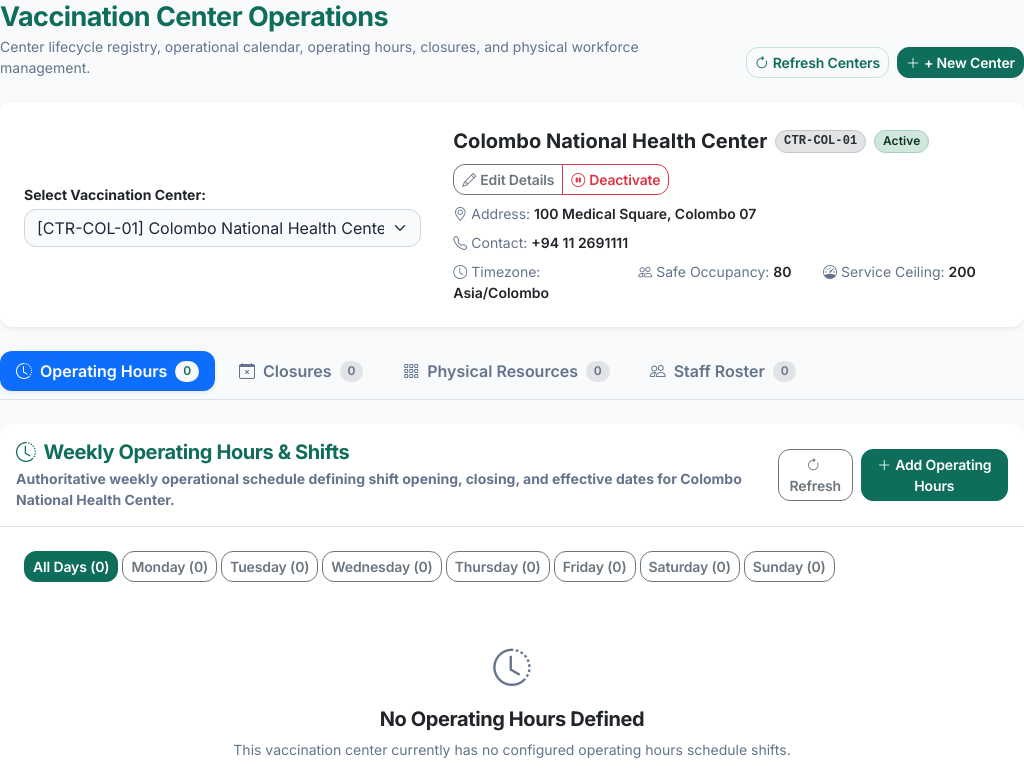
Test: CenterOperationsPage - Center CRUD integration › displays API error inside create modal when backend registration fails
expect the text "Colombo National Health Center" is shown: met, box [453, 126, 767, 156]
Click the button "+ New Center" at (961, 63), box [897, 47, 1023, 78]
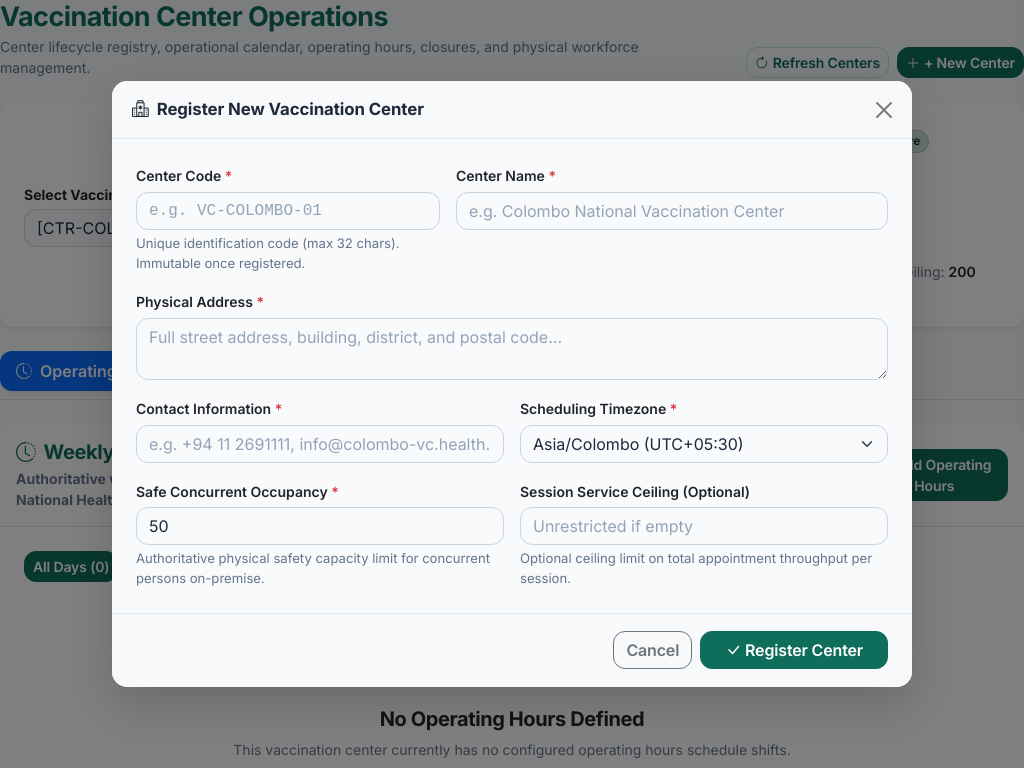
expect the heading "Register New Vaccination Center" is shown: met, box [132, 97, 424, 122]
Type "CTR-COL-01" into the field labelled "Center Code *" at (288, 211), box [136, 192, 440, 230]
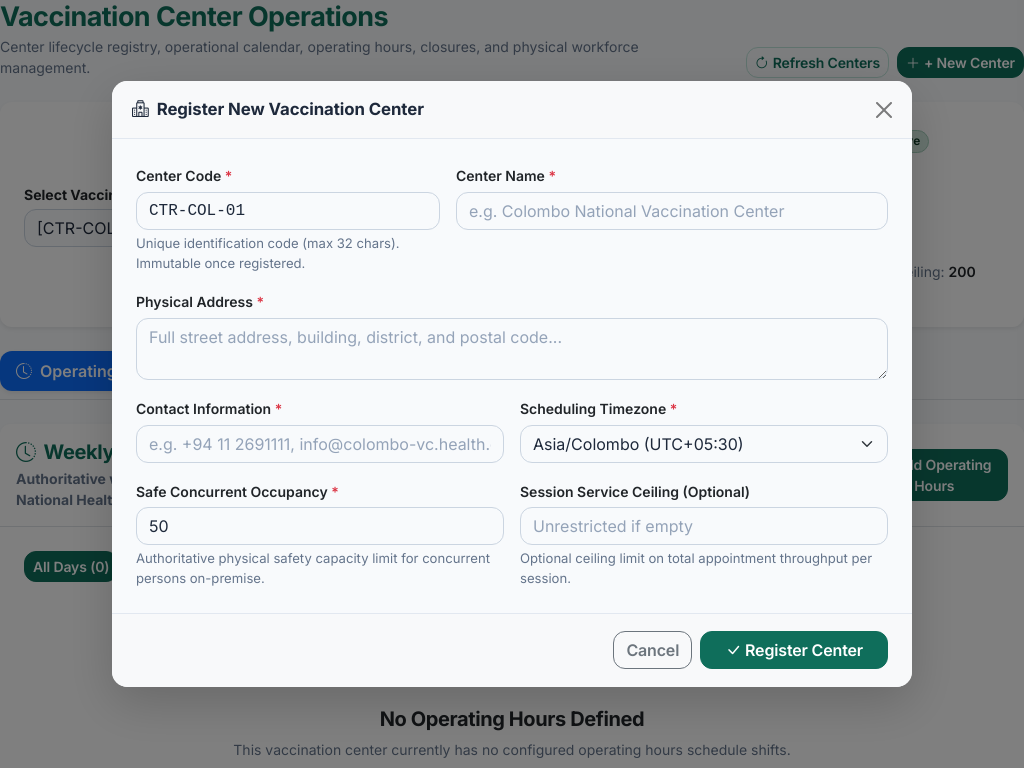
Type "Duplicate Center" into the field labelled "Center Name *" at (672, 211), box [456, 192, 888, 230]
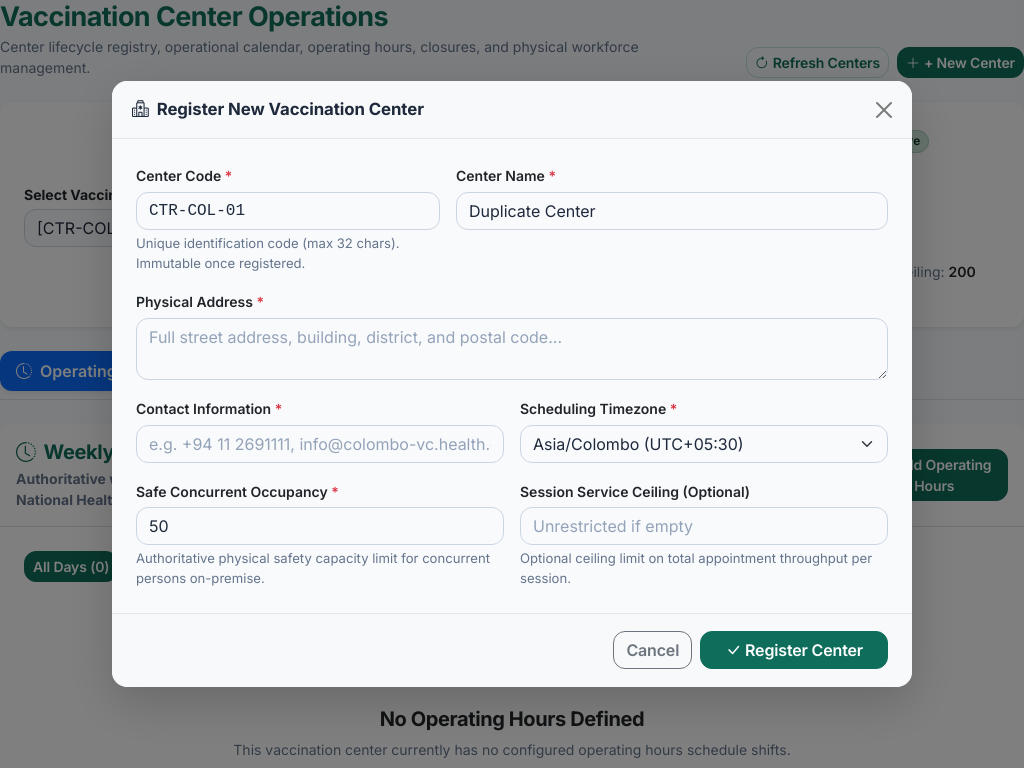
Type "Duplicate Address" into the text box labelled "Physical Address *" at (512, 349), box [136, 318, 888, 380]
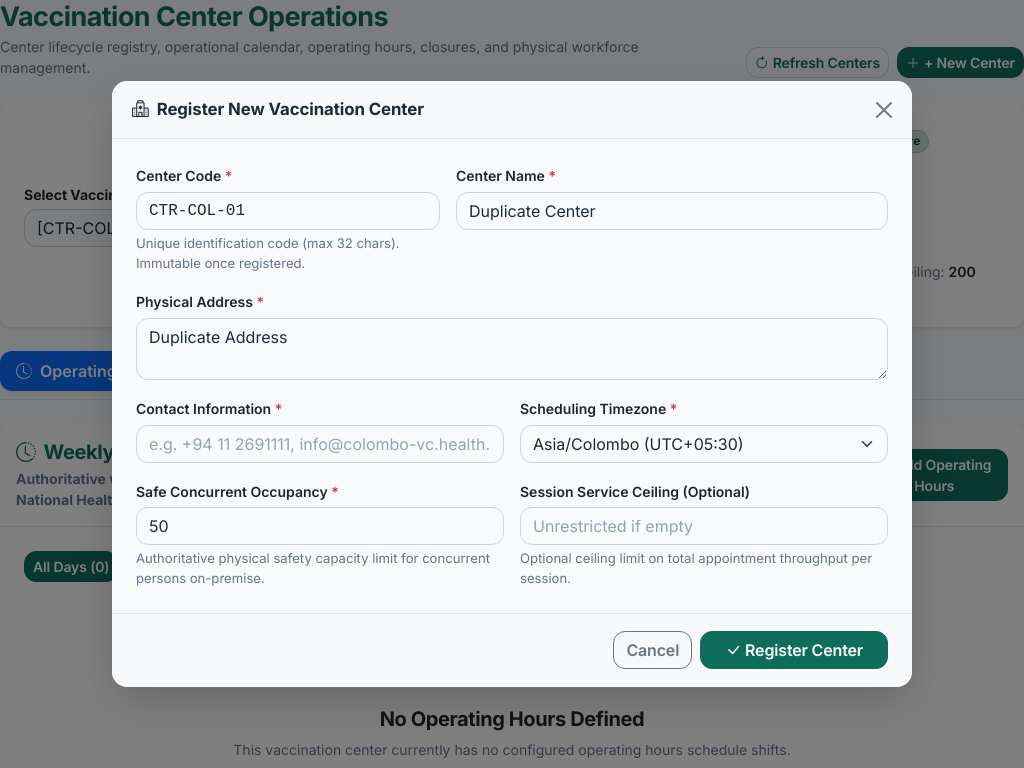
Type "+94 11 0000000" into the field labelled "Contact Information *" at (320, 444), box [136, 425, 504, 463]
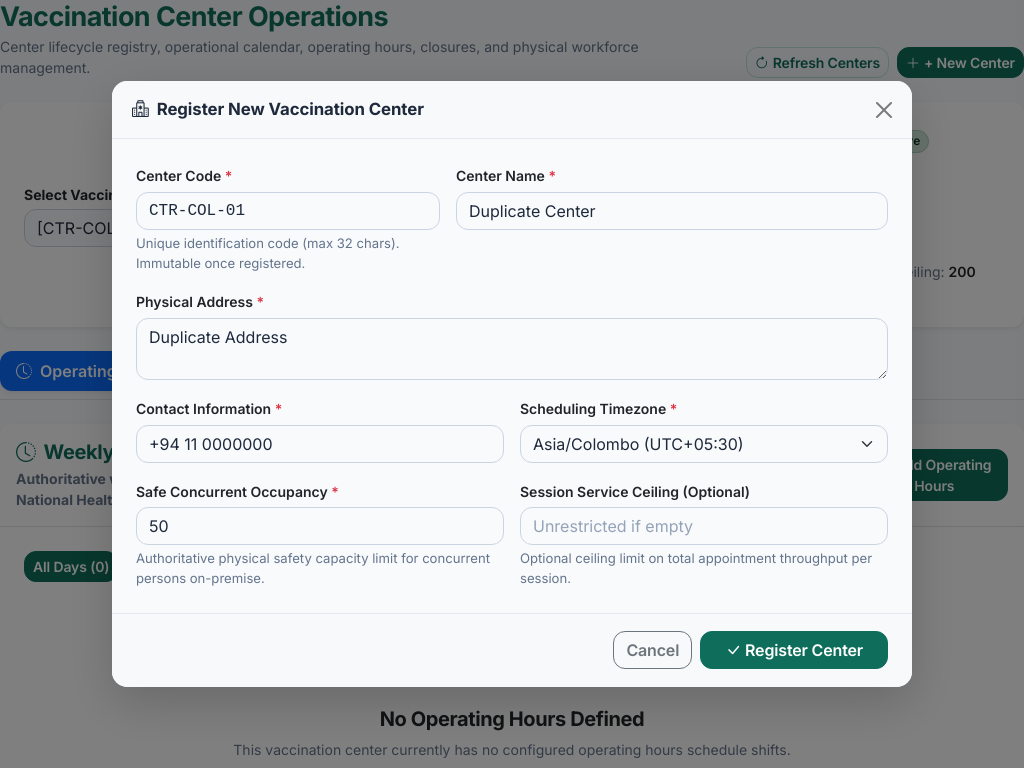
Click the button "Register Center" at (794, 650), box [700, 631, 888, 669]
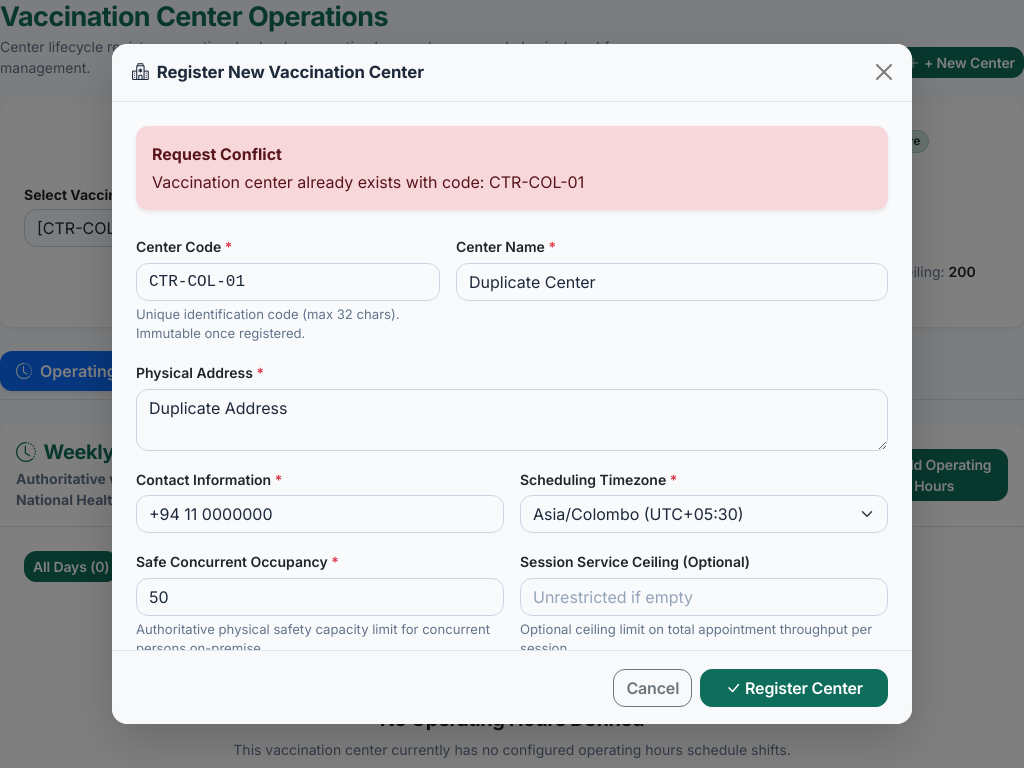
expect the text "Vaccination center already exists with code: CTR-COL-01" is shown: met, box [152, 170, 584, 194]
